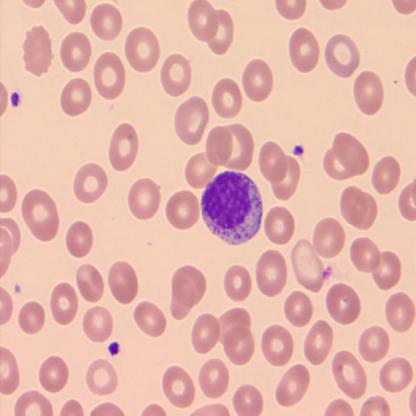Myelocyte: (203, 170, 264, 244)
